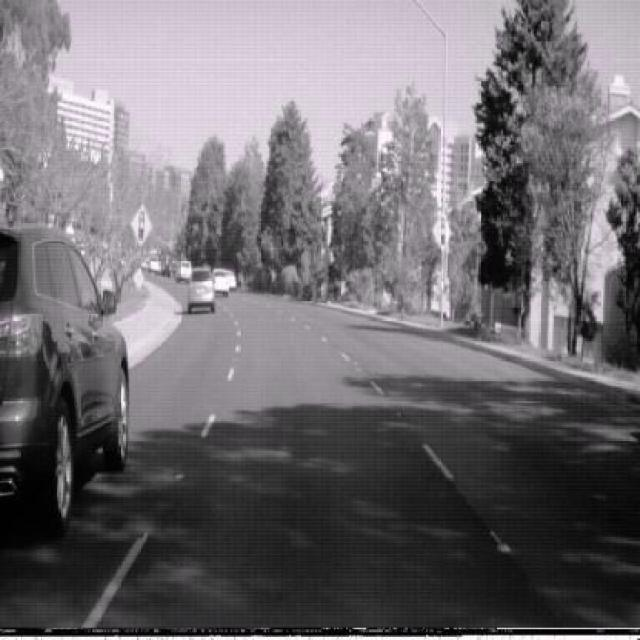signalAhead: (130, 202, 152, 248), (431, 209, 450, 253)
